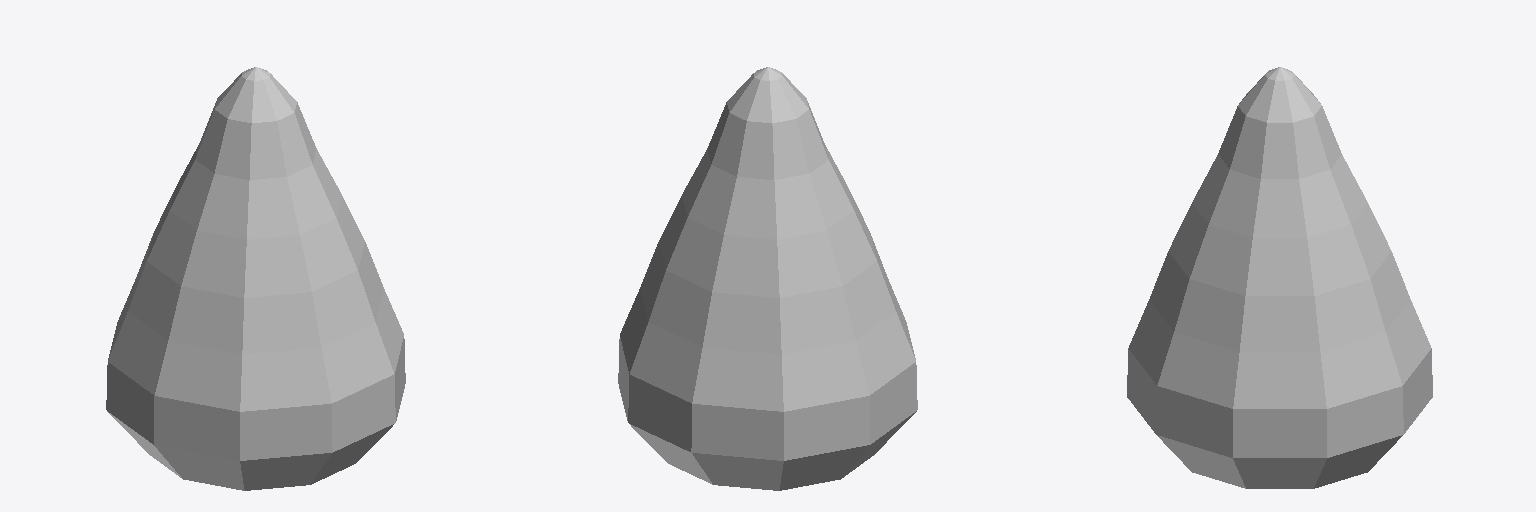
Rendered from FlapeTop.obj.
The picture shows the model from 3 angles: view 1: azimuth 30°, elevation 25°; view 2: azimuth 150°, elevation 25°; view 3: azimuth 270°, elevation 25°; orthographic projection.
Size of the model in its own units: 43.95 by 63 by 46.21.